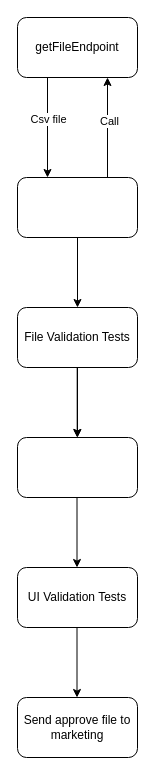
Some shapes in this 155 by 775 pixel diagram are drawn without their labels. The centre of each missing label's shape, as x and y in pixels:
"Call Endpoint" goes at [77,207].
"Relation Validation Tests" goes at [77,467].
